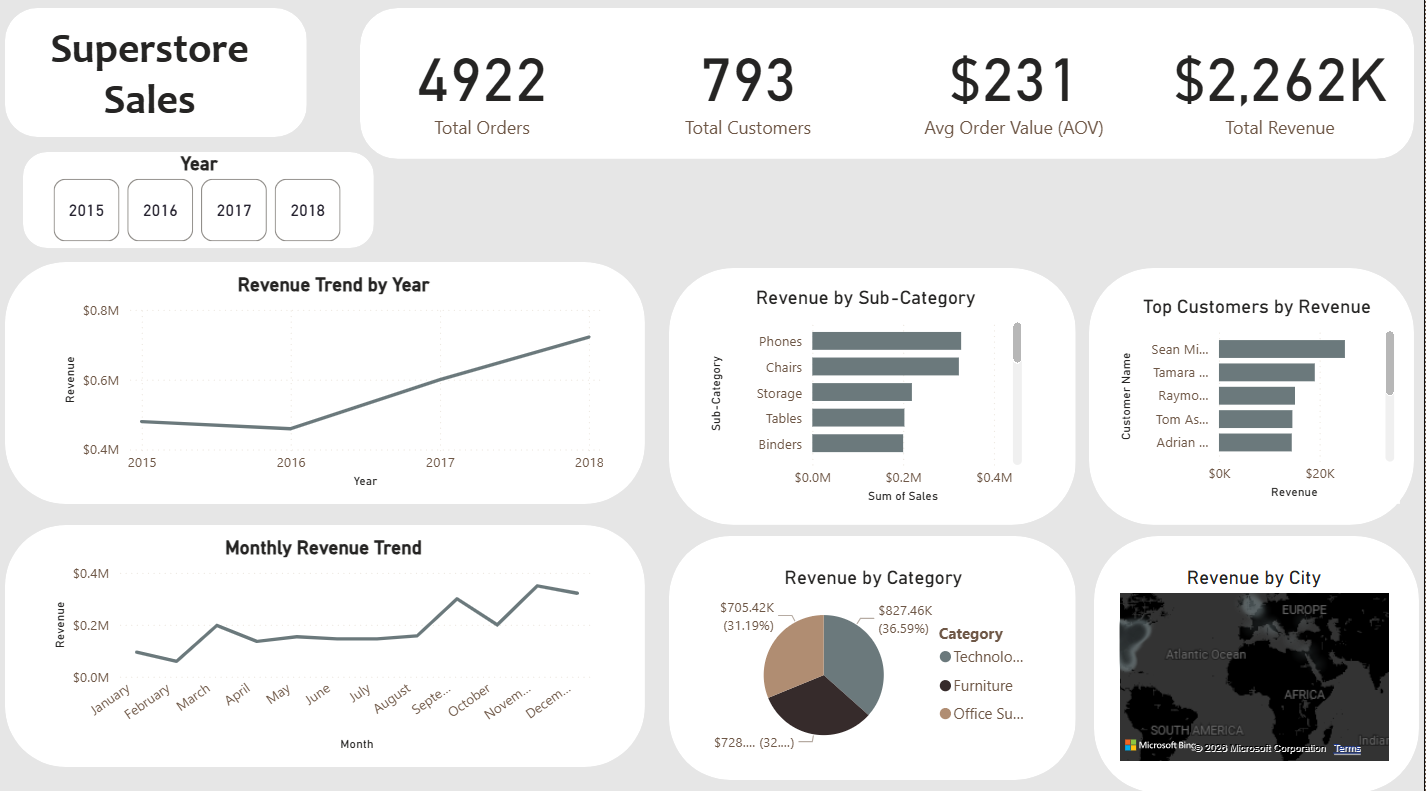

The dashboard page shown, as its layout file describes it:
{"tool":"powerbi","page":{"name":"Page 1","canvas":[1280,720],"ordinal":0},"visuals":[{"type":"shape","box":[25.1,21.5,270.4,115.5],"z":0},{"type":"shape","box":[463,21.5,795.2,121.8],"z":0,"group":"g1"},{"type":"shape","box":[25.1,143.3,314.3,86],"z":0,"group":"g4"},{"type":"shape","box":[603.6,247.2,364.5,230.1],"z":0,"group":"g5"},{"type":"shape","box":[979.7,247.2,291,230.1],"z":0,"group":"g7"},{"type":"shape","box":[9,477.3,573.1,216.7],"z":0,"group":"g2"},{"type":"shape","box":[603.6,487.2,364.5,218.5],"z":0,"group":"g6"},{"type":"textbox","box":[17.9,27.8,276.7,108.4],"z":1000},{"type":"card","fields":{"Values":["Raw_Data.Total Sales2"]},"box":[1071.2,35.1,172,95.4],"z":1000,"group":"g1"},{"type":"shape","box":[9,241.8,573.1,216.7],"z":1000,"group":"g3"},{"type":"group","id":"g1","title":"Group 1","box":[463,21.5,795.2,121.8],"z":2000},{"type":"pieChart","title":"Revenue by Category","fields":{"Y":["Sum(Raw_Data.Sales)"],"Category":["Raw_Data.Category"]},"box":[634,514.2,305.2,176.4],"z":2000,"group":"g6"},{"type":"lineChart","title":"Revenue Trend by Year","fields":{"Y":["Sum(Raw_Data.Sales)"],"Category":["Raw_Data.Order Date.Variation.Date Hierarchy.Year"]},"box":[56.5,251.7,493.4,197],"z":3000,"group":"g3"},{"type":"clusteredBarChart","title":"Revenue by Sub-Category","fields":{"Category":["Raw_Data.Sub-Category"],"Y":["Sum(Raw_Data.Sales)"]},"box":[635.3,263.2,289.6,198.2],"z":3000,"group":"g5"},{"type":"group","id":"g2","title":"Group 2","box":[9,477.3,573.1,216.7],"z":3000},{"type":"advancedSlicerVisual","fields":{"Values":["Raw_Data.Order Date.Variation.Date Hierarchy.Year"]},"box":[47.5,143.3,270.4,86],"z":4000,"group":"g4"},{"type":"group","id":"g3","title":"Group 3","box":[9,241.8,573.1,216.7],"z":4000},{"type":"card","fields":{"Values":["Raw_Data.Average sales"]},"box":[870.1,35.1,172,95.4],"z":5000,"group":"g1"},{"type":"group","id":"g4","title":"Group 4","box":[25.1,143.3,314.3,86],"z":5000},{"type":"card","fields":{"Values":["Raw_Data.Number of Customers"]},"box":[669.9,35.1,172,95.4],"z":6000,"group":"g1"},{"type":"group","id":"g5","title":"Group 5","box":[603.6,247.2,364.5,230.1],"z":6000},{"type":"card","fields":{"Values":["Raw_Data.Number of Orders"]},"box":[468.9,35.1,172,95.4],"z":7000,"group":"g1"},{"type":"lineChart","title":"Monthly Revenue Trend","fields":{"Category":["Raw_Data.Order Date.Variation.Date Hierarchy.Month"],"Y":["Sum(Raw_Data.Sales)"]},"box":[47.5,487.2,493.4,197],"z":7000,"group":"g2"},{"type":"group","id":"g6","title":"Group 6","box":[603.6,487.2,364.5,218.5],"z":7000},{"type":"shape","box":[984.2,487.2,291,230.1],"z":8000},{"type":"group","id":"g7","title":"Group 7","box":[979.7,247.2,291,230.1],"z":9000},{"type":"clusteredBarChart","title":"Top Customers by Revenue","fields":{"Category":["Raw_Data.Customer Name"],"Y":["Sum(Raw_Data.Sales)"]},"box":[1002.1,271.4,256.1,187.2],"z":9000,"group":"g7"},{"type":"map","title":"Revenue by City","fields":{"Category":["Raw_Data.City"],"Size":["Raw_Data.Total Sales"]},"box":[1002.1,514,250.7,180],"z":10000}]}

Visuals, with their boxes in screenshot pixels (x1, y1, x2, y2), scaled from the page's 1280x720 canvas onto the 1426x791 screenshot:
shape: box=[28, 24, 329, 151]
shape: box=[516, 24, 1402, 157]
shape: box=[28, 157, 378, 252]
shape: box=[672, 272, 1079, 524]
shape: box=[1091, 272, 1416, 524]
shape: box=[10, 524, 648, 762]
shape: box=[672, 535, 1079, 775]
textbox: box=[20, 31, 328, 150]
card - Raw_Data.Total Sales2: box=[1193, 39, 1385, 143]
shape: box=[10, 266, 648, 504]
"Group 1" group: box=[516, 24, 1402, 157]
"Revenue by Category" pieChart: box=[706, 565, 1046, 759]
"Revenue Trend by Year" lineChart: box=[63, 277, 613, 493]
"Revenue by Sub-Category" clusteredBarChart: box=[708, 289, 1030, 507]
"Group 2" group: box=[10, 524, 648, 762]
advancedSlicerVisual - Raw_Data.Order Date.Variation.Date Hierarchy.Year: box=[53, 157, 354, 252]
"Group 3" group: box=[10, 266, 648, 504]
card - Raw_Data.Average sales: box=[969, 39, 1161, 143]
"Group 4" group: box=[28, 157, 378, 252]
card - Raw_Data.Number of Customers: box=[746, 39, 938, 143]
"Group 5" group: box=[672, 272, 1079, 524]
card - Raw_Data.Number of Orders: box=[522, 39, 714, 143]
"Monthly Revenue Trend" lineChart: box=[53, 535, 603, 752]
"Group 6" group: box=[672, 535, 1079, 775]
shape: box=[1096, 535, 1421, 788]
"Group 7" group: box=[1091, 272, 1416, 524]
"Top Customers by Revenue" clusteredBarChart: box=[1116, 298, 1402, 504]
"Revenue by City" map: box=[1116, 565, 1396, 762]
